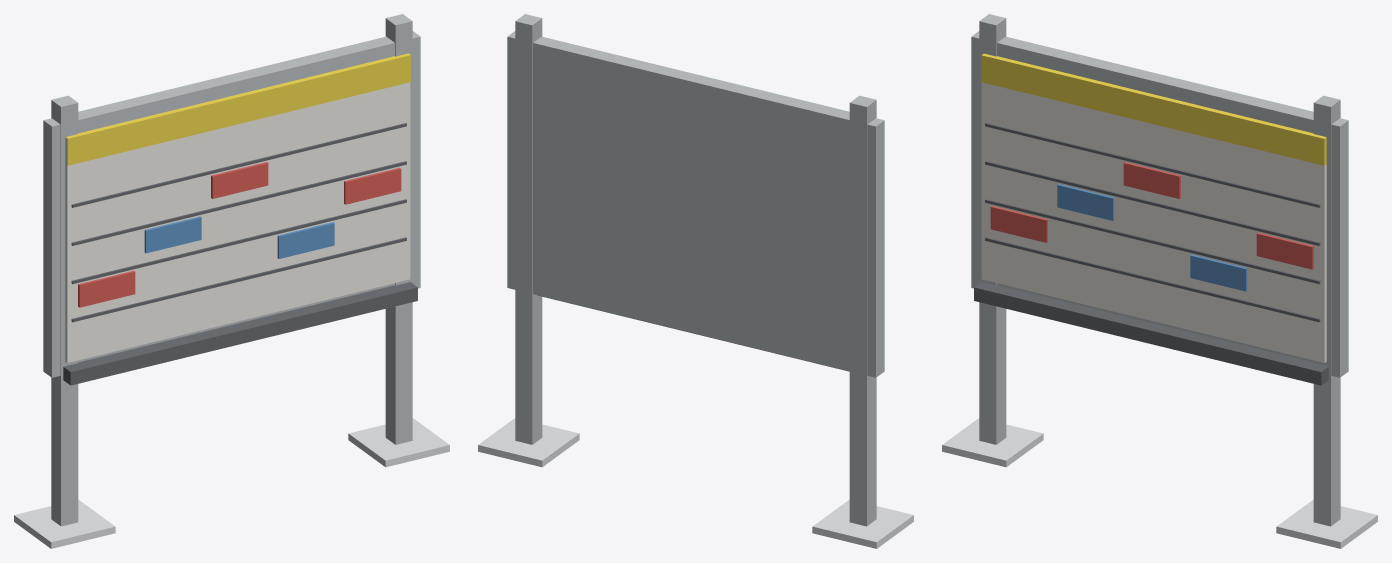
Rendered from parcel-depot-and-sorting-hall-parcel-depot-and-sorting-04e556b6__34826.glb.
3 renders of one model, left to right at view 1: azimuth 30°, elevation 25°; view 2: azimuth 150°, elevation 25°; view 3: azimuth 330°, elevation 25°, orthographic.
Visible parts, largest first — view 1: parcel-depot-and-sorting-hall-shift-board; view 2: parcel-depot-and-sorting-hall-shift-board; view 3: parcel-depot-and-sorting-hall-shift-board.
Part boxes in pixels (x1,y1,x2,y2): parcel-depot-and-sorting-hall-shift-board: (14,14,449,548); parcel-depot-and-sorting-hall-shift-board: (478,14,913,548); parcel-depot-and-sorting-hall-shift-board: (942,14,1377,548).
Size of the model in its own units: 1.86 by 1.9 by 0.2999.
